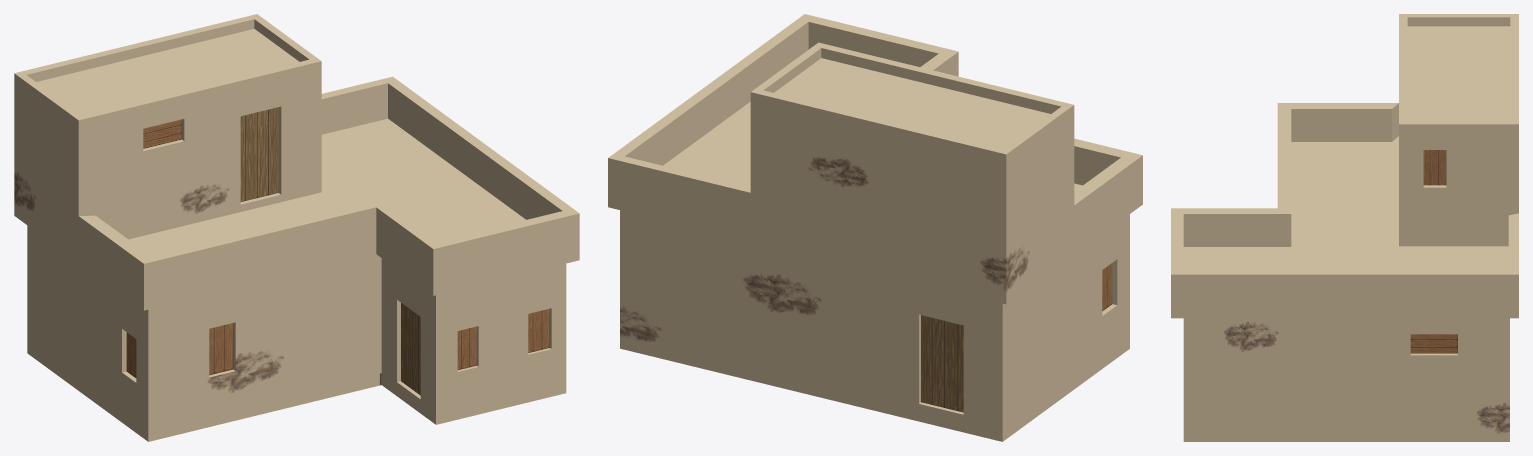
Rendered from VillageHouse05.fbx.
3 renders of one model, left to right at view 1: azimuth 30°, elevation 25°; view 2: azimuth 150°, elevation 25°; view 3: azimuth 270°, elevation 25°, orthographic. The views are drawn at different scales.
Parts seen in each view (by area): view 1: House05; view 2: House05; view 3: House05.
Part boxes in pixels (bbox=[...]): House05: bbox=[14, 14, 579, 441]; House05: bbox=[608, 14, 1142, 441]; House05: bbox=[1171, 14, 1518, 441].
Bounding box in the file's own units: 32.81 × 23.08 × 28.07.
